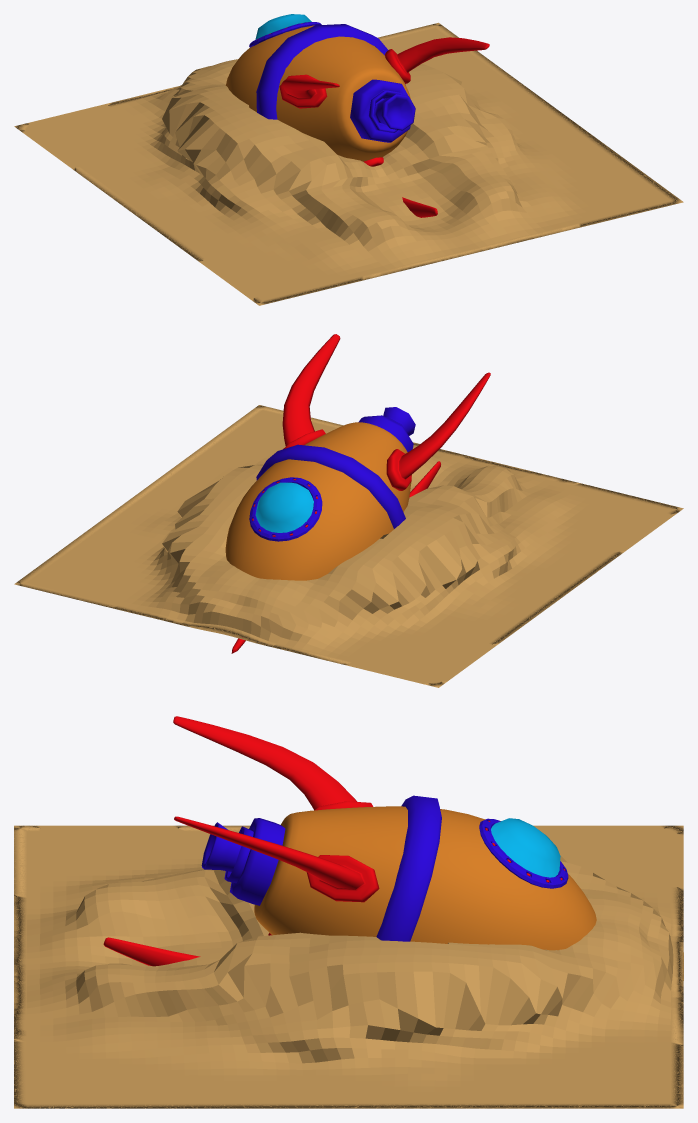
The model's file is Crashed Space Ship.fbx.
3 views of the same model, one above another, from view 1: azimuth 30°, elevation 25°; view 2: azimuth 150°, elevation 25°; view 3: azimuth 270°, elevation 25° (orthographic). The views are drawn at different scales.
Visible parts, largest first — view 1: Plane, boddy, Arm, fire-nozzle, boddy.belt, win.001; view 2: Plane, boddy, Arm, boddy.belt, win.001, win-frem, fire-nozzle; view 3: Plane, boddy, Arm, boddy.belt, fire-nozzle, win.001, win-frem.
Part boxes in pixels (x1,y1,x2,y2): Plane: (14,22,683,305); boddy: (225,25,410,161); Arm: (279,37,489,217); fire-nozzle: (350,79,415,142); boddy.belt: (256,24,405,119); win.001: (255,14,311,39); Plane: (14,405,683,687); boddy: (225,422,411,580); Arm: (282,334,490,497); boddy.belt: (256,444,405,528); win.001: (255,482,313,532); win-frem: (249,477,322,541); fire-nozzle: (358,407,415,451); Plane: (14,825,683,1108); boddy: (254,806,596,950); Arm: (103,716,379,966); boddy.belt: (376,795,441,941); fire-nozzle: (201,818,285,905); win.001: (491,818,560,877); win-frem: (479,818,568,888).
Size of the model in its own units: 800 by 347 by 800.
